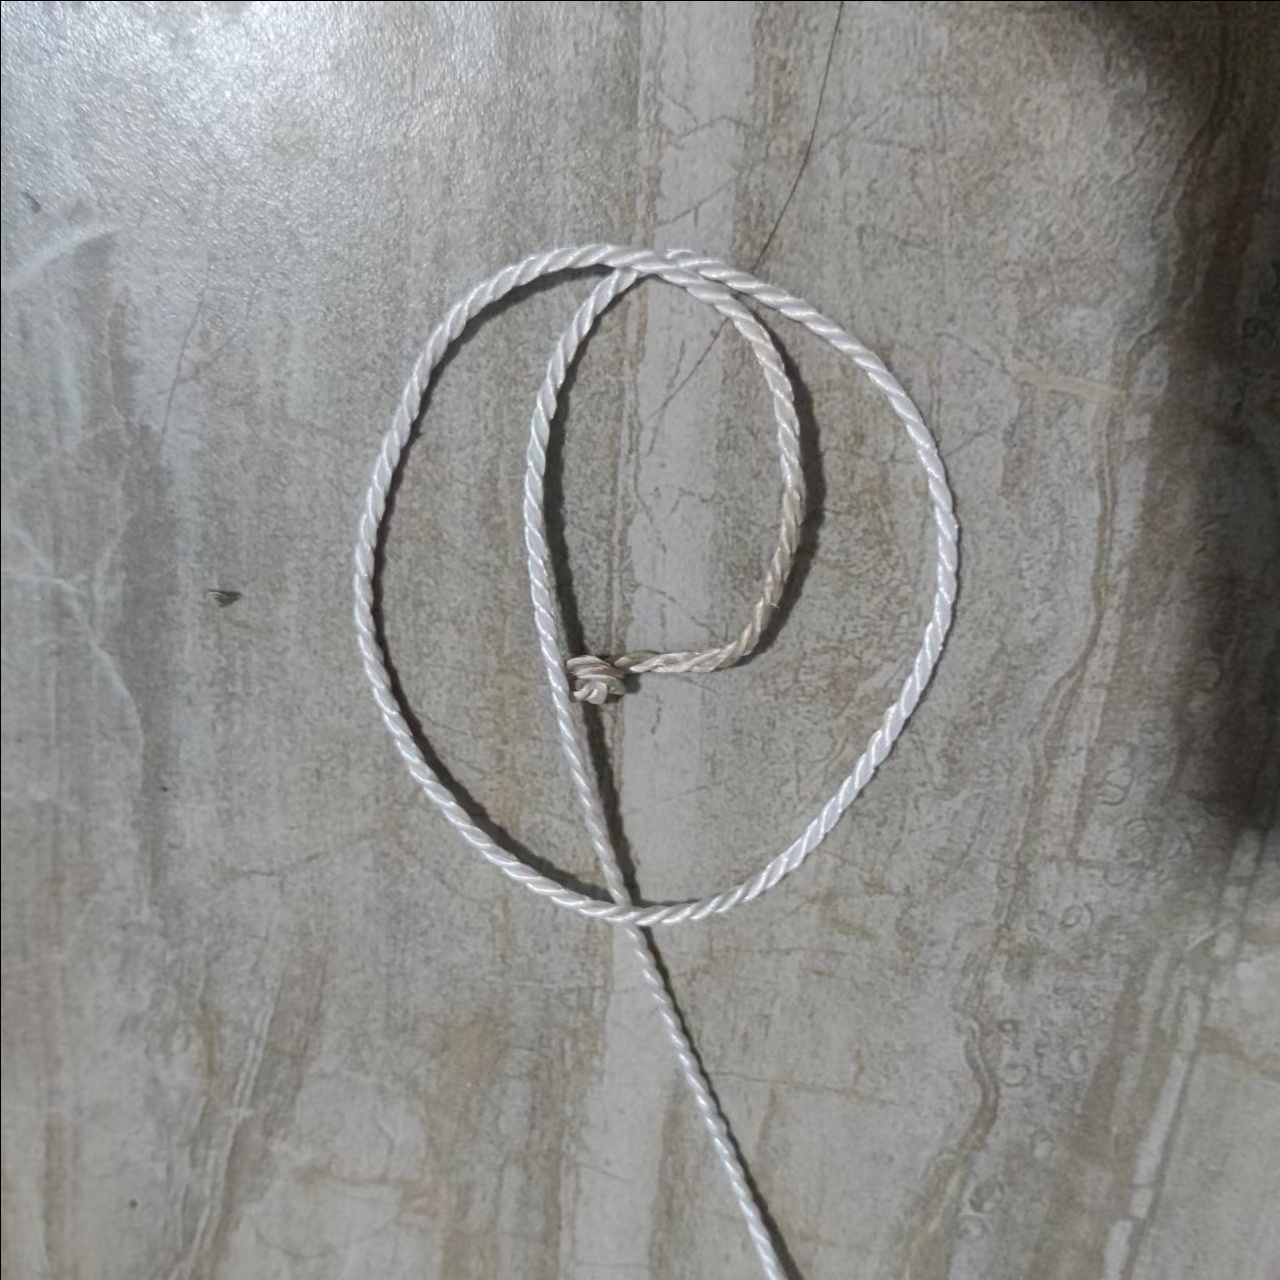9/可回收垃圾/绳子: (350, 244, 962, 1280)
